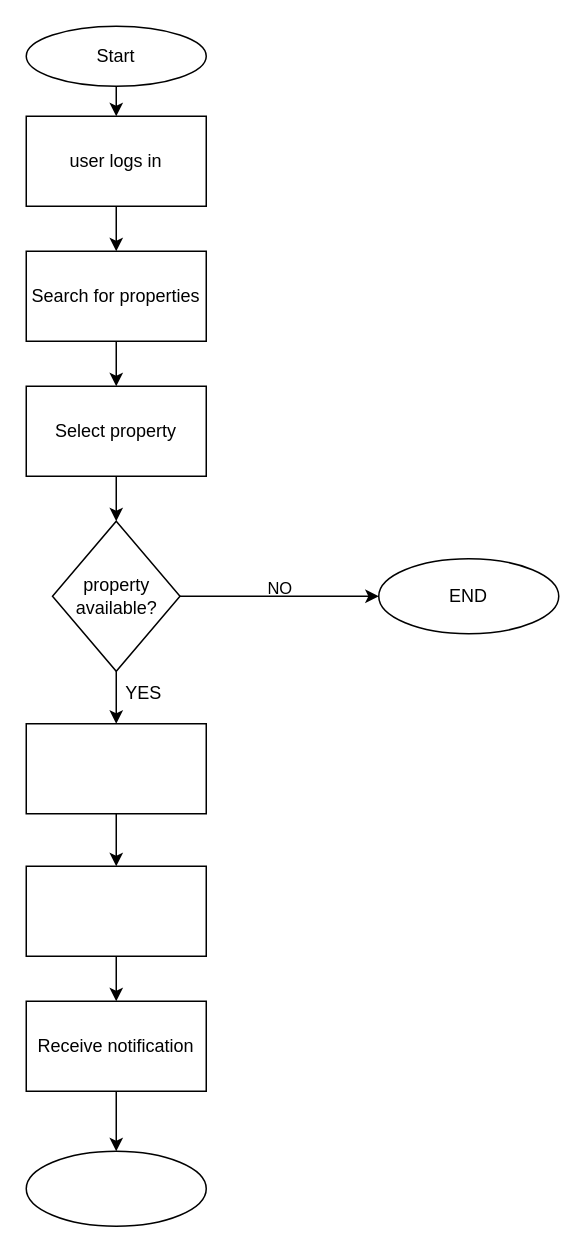
This 585x1253 diagram has some shape labels left out. The shapes that lost their labels are listed below. From the top down, each one's centre as x and y in pixels, then its label:
At point 115,768: "Enter booking details".
At point 115,910: "Make payment".
At point 115,1188: "Stop".
